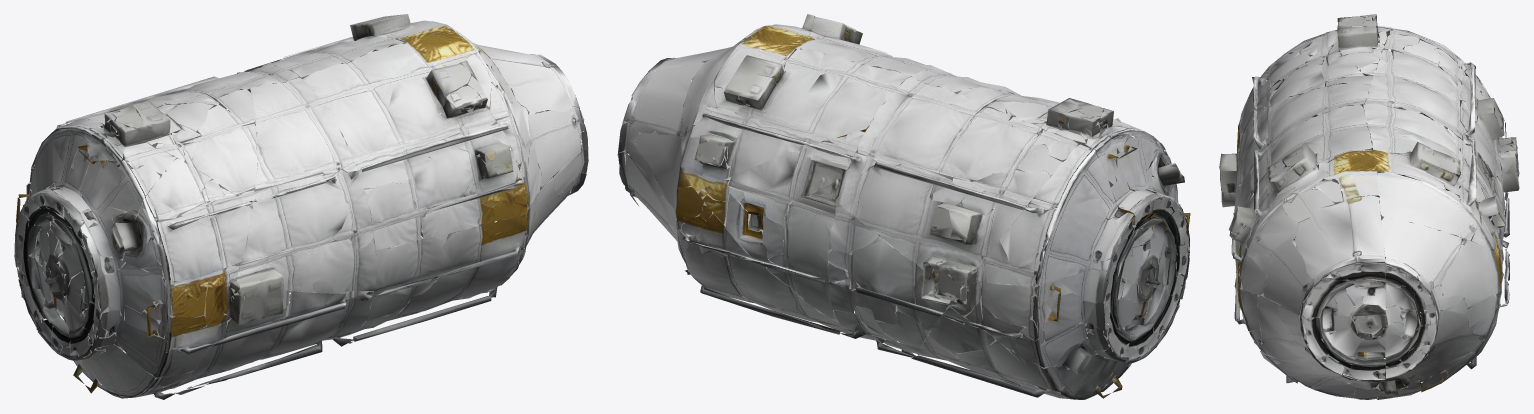
Rendered from iss_module.glb.
3 renders of one model, left to right at view 1: azimuth 30°, elevation 25°; view 2: azimuth 150°, elevation 25°; view 3: azimuth 270°, elevation 25°, orthographic. The views are drawn at different scales.
Visible parts, largest first — view 1: iss_module; view 2: iss_module; view 3: iss_module.
Boxes of the visible parts, left/top/right/bottom form: iss_module: left=14, top=14, right=588, bottom=399; iss_module: left=617, top=14, right=1190, bottom=399; iss_module: left=1219, top=14, right=1519, bottom=399.
Size of the model in its own units: 21.9 by 11.07 by 11.85.
Materials: 1 (1 with a texture image).
